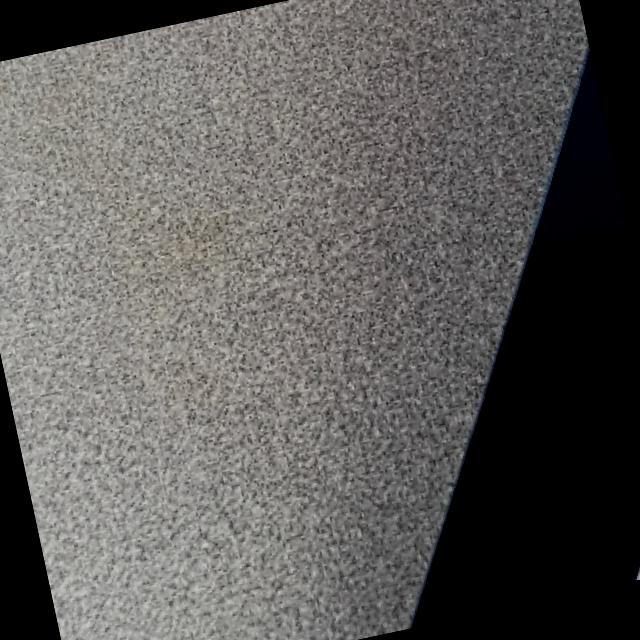healthy: (0, 0, 589, 640), (413, 51, 640, 625)
